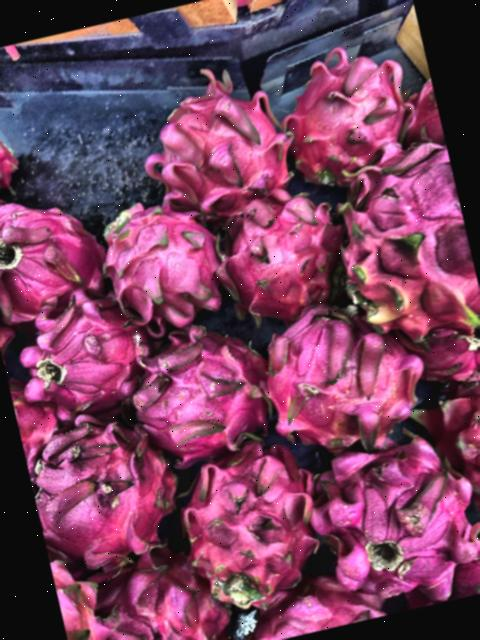buah-naga-matang: (321, 127, 480, 367), (293, 424, 480, 611), (242, 273, 427, 459), (162, 434, 331, 613), (19, 398, 188, 574), (132, 62, 298, 237), (107, 312, 274, 472), (87, 185, 232, 344), (0, 279, 159, 421), (264, 36, 407, 186), (218, 188, 354, 328), (77, 540, 231, 640), (0, 188, 108, 318), (216, 569, 373, 640), (416, 368, 480, 531), (48, 540, 136, 640), (386, 535, 480, 611), (393, 73, 444, 148), (0, 88, 17, 193)
